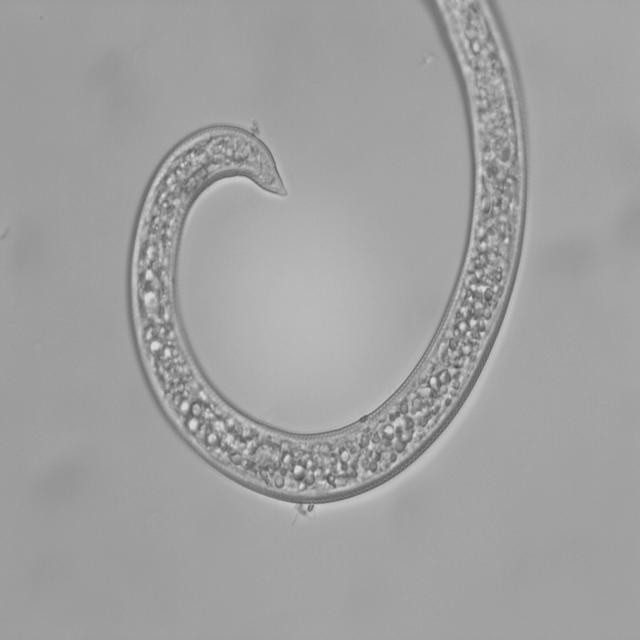Helicotylenchus: (107, 0, 542, 518)
